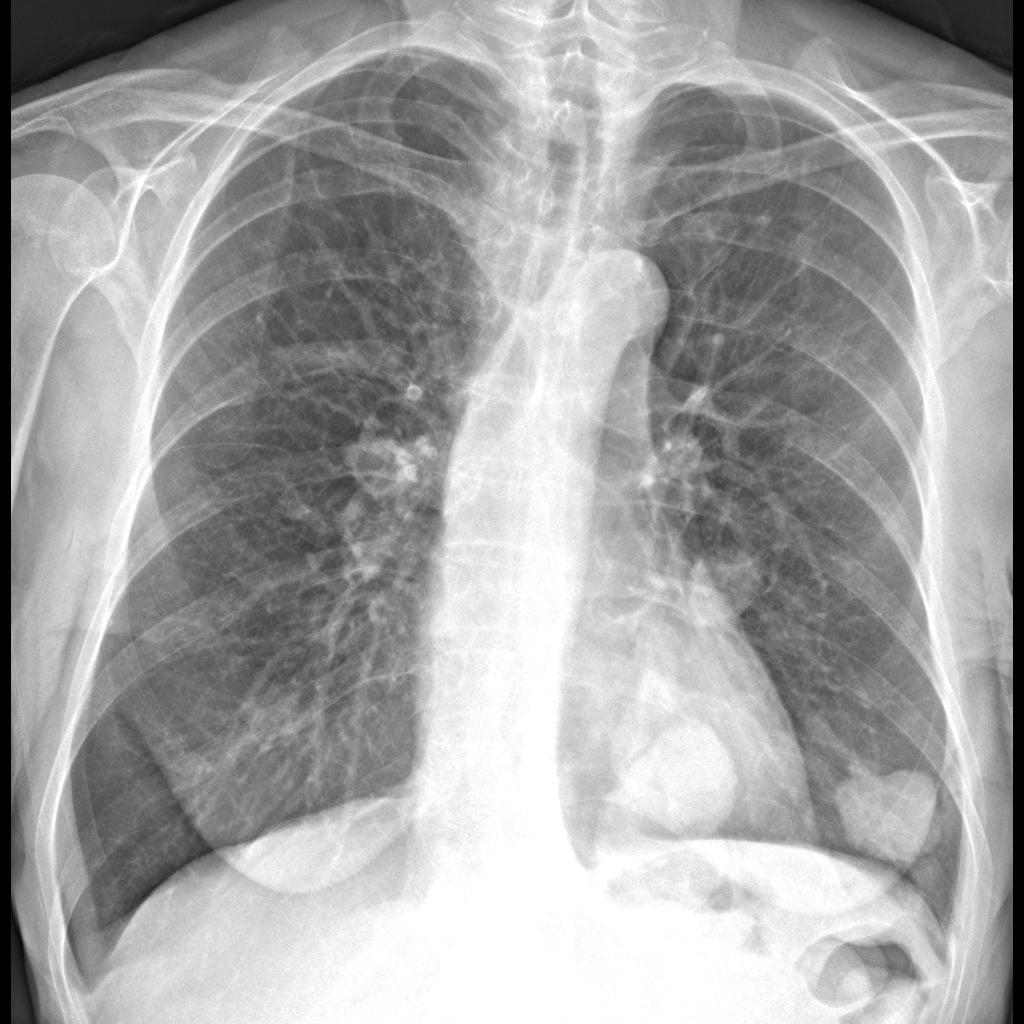Nodule: (603, 661, 752, 848), (824, 741, 946, 870), (681, 532, 767, 635)
